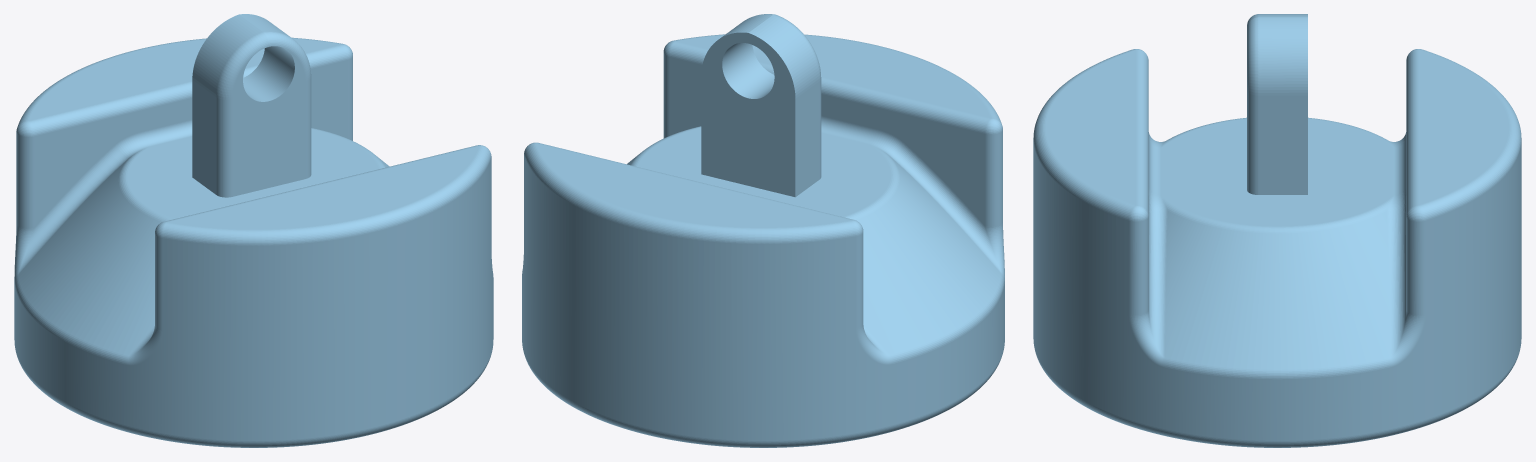
Rendered from base_large.dae.
The picture shows the model from 3 angles, left to right: view 1: azimuth 30°, elevation 25°; view 2: azimuth 150°, elevation 25°; view 3: azimuth 270°, elevation 25°; orthographic projection.
Visible parts, largest first — view 1: 5eb3054389d5b714df0f3b99; view 2: 5eb3054389d5b714df0f3b99; view 3: 5eb3054389d5b714df0f3b99.
Part boxes in pixels (<box>): 5eb3054389d5b714df0f3b99: <box>14,14,493,447</box>; 5eb3054389d5b714df0f3b99: <box>522,14,1004,447</box>; 5eb3054389d5b714df0f3b99: <box>1033,14,1521,447</box>.
Size of the model in its own units: 0.4 by 0.4 by 0.2997.
